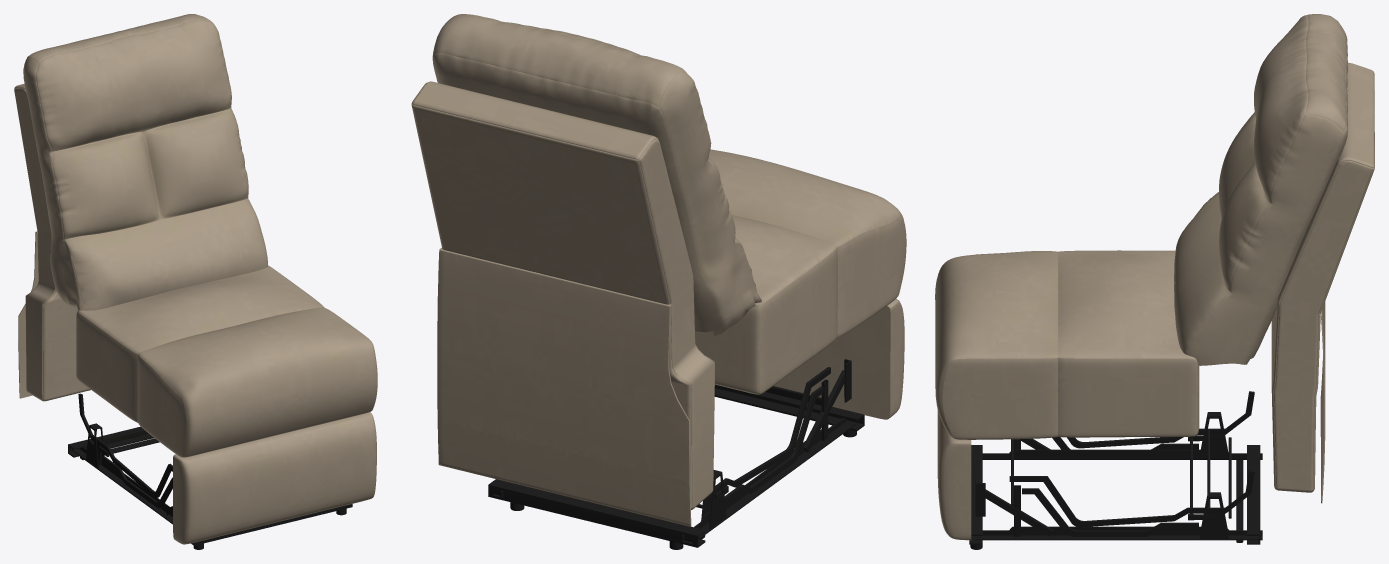
Rendered from single_sofa.glb.
3 renders of one model, left to right at view 1: azimuth 30°, elevation 25°; view 2: azimuth 150°, elevation 25°; view 3: azimuth 270°, elevation 25°, orthographic. The views are drawn at different scales.
Visible parts, largest first — view 1: SIngleSofa; view 2: SIngleSofa; view 3: SIngleSofa.
Part boxes in pixels (box(x1,y1,x2,y2)): SIngleSofa: box(14, 14, 377, 549); SIngleSofa: box(411, 14, 906, 549); SIngleSofa: box(935, 14, 1374, 549).
Size of the model in its own units: 0.5529 by 1.06 by 0.9386.
1 material, 1 textured.
